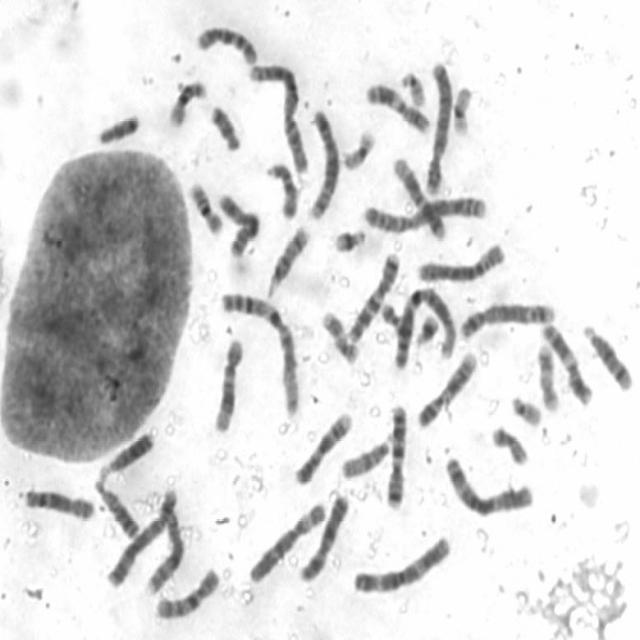A1: (216, 286, 302, 418), (391, 282, 458, 371)
A2: (246, 58, 310, 175), (361, 190, 490, 235)
A3: (350, 531, 454, 597), (441, 452, 536, 518)
B4: (103, 482, 182, 590), (420, 55, 453, 196)
B5: (456, 295, 556, 341), (306, 104, 342, 222)
C10: (150, 561, 222, 622), (192, 19, 259, 66)
C11: (540, 318, 596, 407), (362, 78, 431, 136)
C12: (389, 149, 449, 241), (210, 333, 245, 435)
C6: (245, 496, 329, 584), (414, 238, 509, 284)
C7: (344, 246, 402, 342), (382, 397, 410, 512)
C8: (142, 492, 187, 597), (20, 482, 97, 522)
C9: (413, 345, 480, 429), (290, 406, 354, 486)
D13: (91, 474, 141, 542), (98, 428, 156, 479)
D14: (579, 319, 635, 392), (263, 222, 311, 298)
D15: (339, 429, 395, 480), (264, 157, 300, 220)
E16: (164, 74, 208, 130), (186, 176, 226, 237)
E17: (318, 306, 361, 365), (534, 340, 562, 414)
E18: (205, 98, 243, 154), (93, 107, 142, 146)
F19: (339, 124, 376, 171), (451, 80, 475, 137)
F20: (488, 421, 530, 467), (377, 298, 417, 340)
G21: (411, 309, 442, 348), (331, 222, 368, 254)
G22: (396, 65, 428, 108), (509, 391, 543, 428)
X: (297, 490, 351, 584), (215, 189, 263, 263)
Y: (93, 107, 142, 146)
